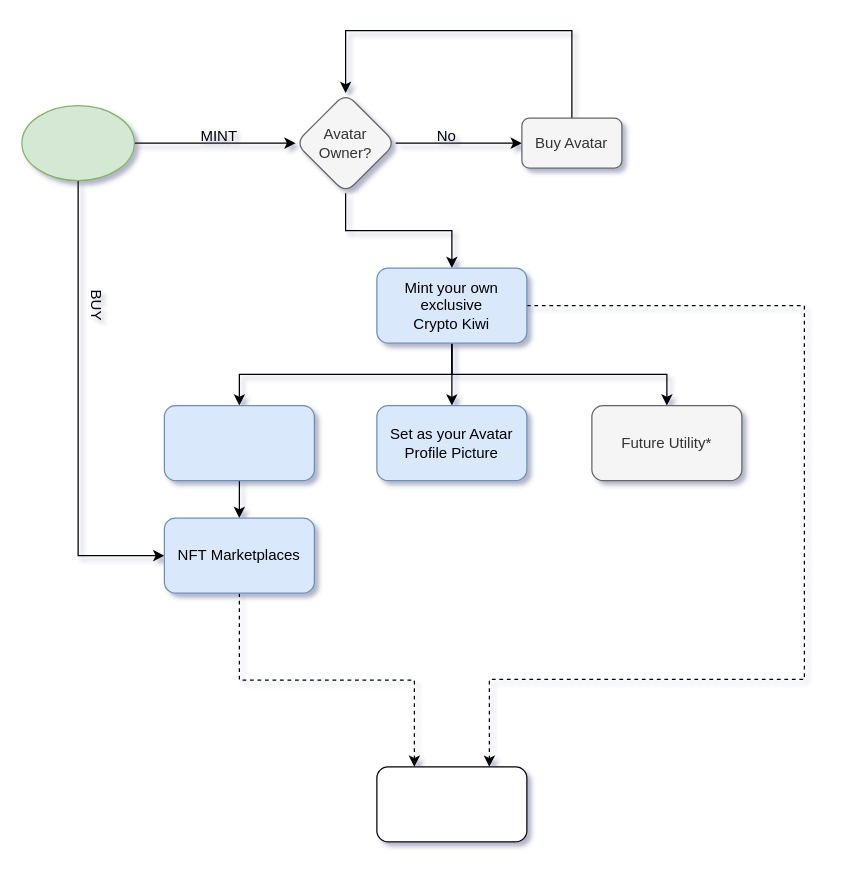
The diagram is 844 pixels wide and 871 high, and some of its shapes have lost their labels. The box of each missing label's shape, as (x1, y1, x2, y2) in pixels:
Distributor Smart Contract: (376, 766, 527, 842)
Resell on Marketplace: (163, 404, 314, 481)
Start: (21, 104, 134, 181)
